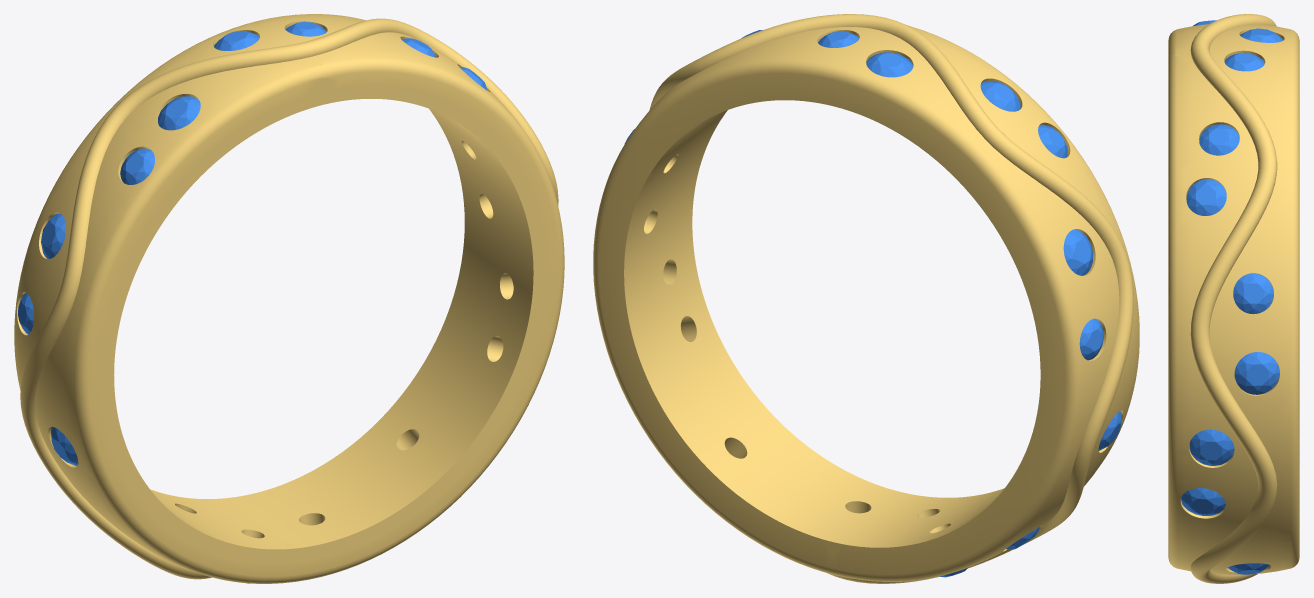
File: AlexWBtealsapph_blender.glb
The picture shows the model from 3 angles, left to right: view 1: azimuth 30°, elevation 25°; view 2: azimuth 150°, elevation 25°; view 3: azimuth 270°, elevation 25°; orthographic projection. The views are drawn at different scales.
Parts seen in each view (by area): view 1: Alex YG for 3d model, Alex teal sapphire for 3d model.015, Alex teal sapphire for 3d model.014, Alex teal sapphire for 3d model.013; view 2: Alex YG for 3d model, Alex teal sapphire for 3d model.013, Alex teal sapphire for 3d model.017, Alex teal sapphire for 3d model.015, Alex teal sapphire for 3d model.011; view 3: Alex YG for 3d model, Alex teal sapphire for 3d model.003, Alex teal sapphire for 3d model.002, Alex teal sapphire for 3d model.004, Alex teal sapphire for 3d model, Alex teal sapphire for 3d model.001, Alex teal sapphire for 3d model.005, Alex teal sapphire for 3d model.016, Alex teal sapphire for 3d model.017, Alex teal sapphire for 3d model.006.
Part boxes in pixels (<box>): Alex YG for 3d model: <box>14,14,564,583</box>; Alex teal sapphire for 3d model.015: <box>158,96,200,130</box>; Alex teal sapphire for 3d model.014: <box>120,148,154,184</box>; Alex teal sapphire for 3d model.013: <box>41,213,65,258</box>; Alex YG for 3d model: <box>593,14,1139,583</box>; Alex teal sapphire for 3d model.013: <box>1063,229,1092,275</box>; Alex teal sapphire for 3d model.017: <box>866,52,912,77</box>; Alex teal sapphire for 3d model.015: <box>980,81,1020,111</box>; Alex teal sapphire for 3d model.011: <box>1079,318,1103,360</box>; Alex YG for 3d model: <box>1168,14,1299,583</box>; Alex teal sapphire for 3d model.003: <box>1234,352,1279,394</box>; Alex teal sapphire for 3d model.002: <box>1233,273,1273,314</box>; Alex teal sapphire for 3d model.004: <box>1189,429,1234,465</box>; Alex teal sapphire for 3d model: <box>1186,179,1226,215</box>; Alex teal sapphire for 3d model.001: <box>1199,124,1239,155</box>; Alex teal sapphire for 3d model.005: <box>1181,488,1225,515</box>; Alex teal sapphire for 3d model.016: <box>1224,52,1264,71</box>; Alex teal sapphire for 3d model.017: <box>1240,28,1283,42</box>; Alex teal sapphire for 3d model.006: <box>1227,563,1269,574</box>.
Bounding box in the file's own units: 25.25 × 25.06 × 5.8.
